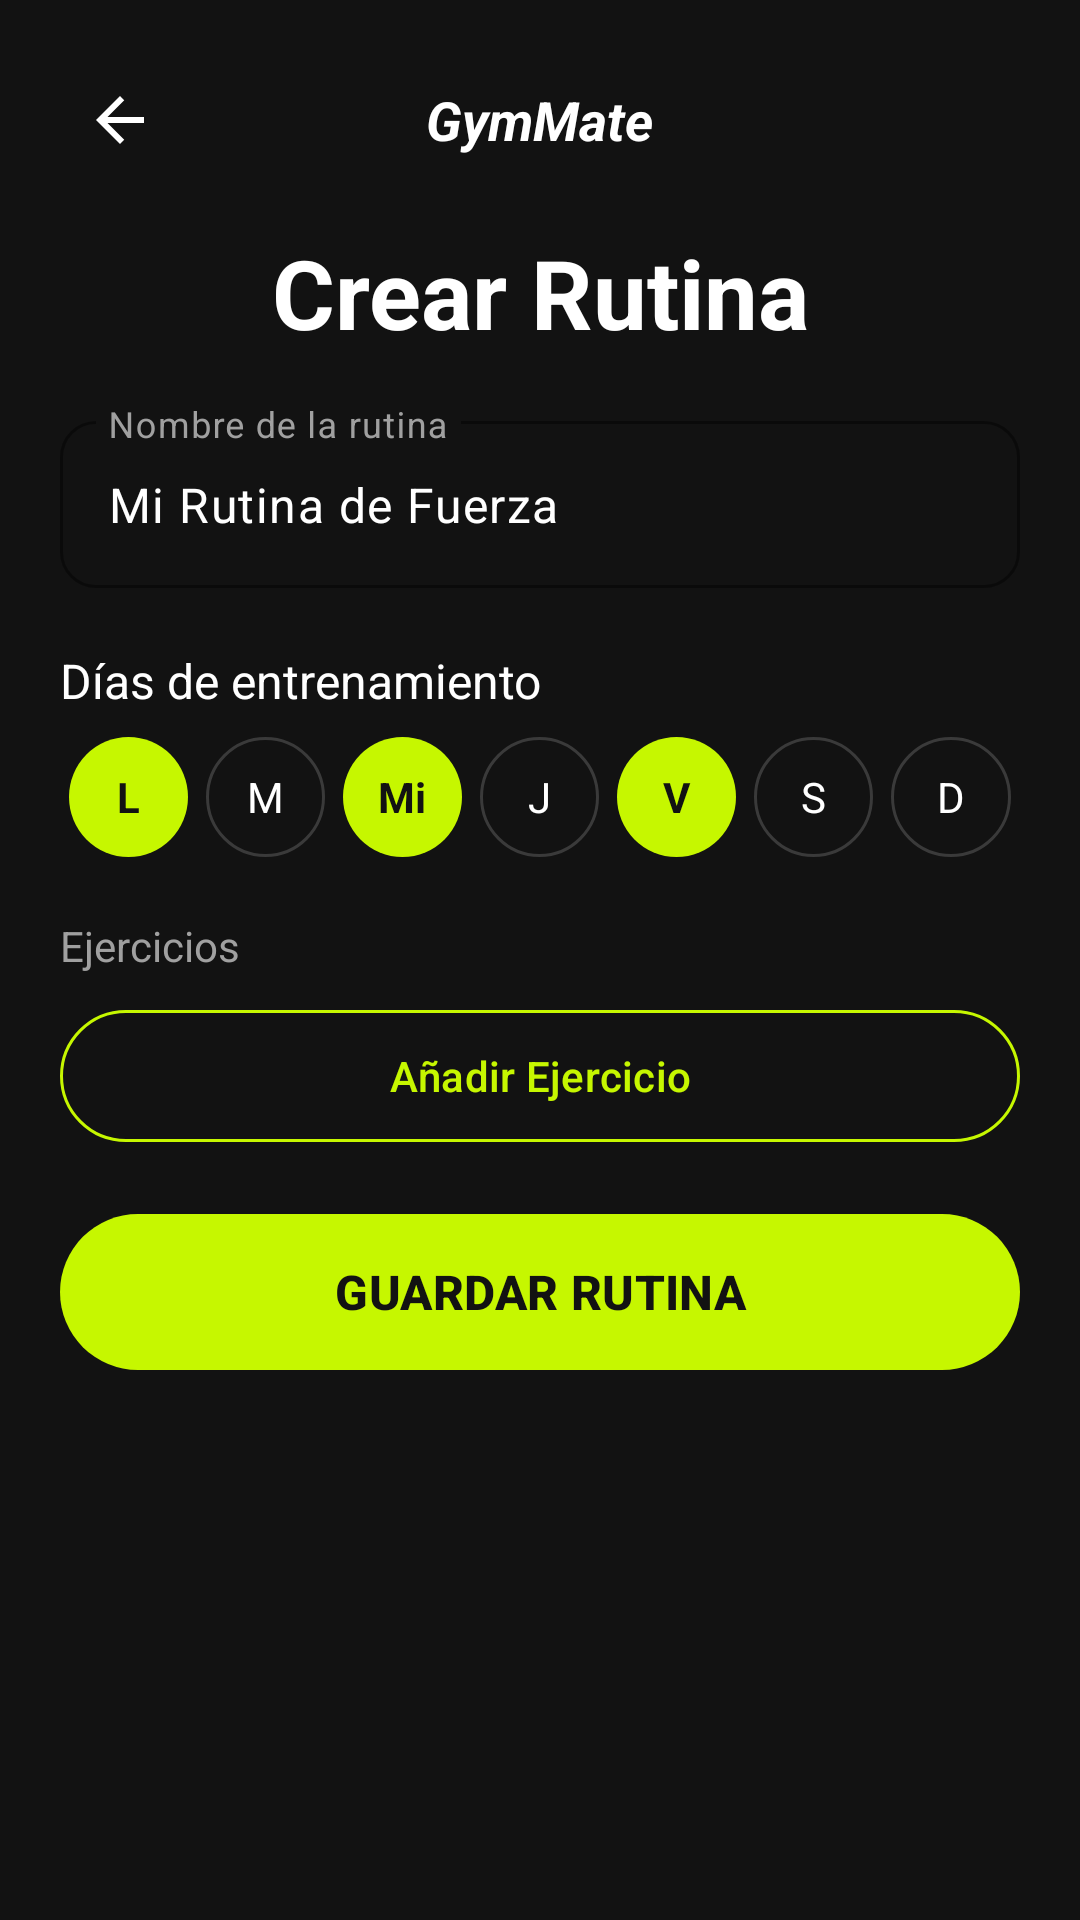

Icon bounding boxes for this 1080w x 1920h phone screenshot, format (x1, y1, x2, y2):
Volver: (96, 96, 144, 144)
